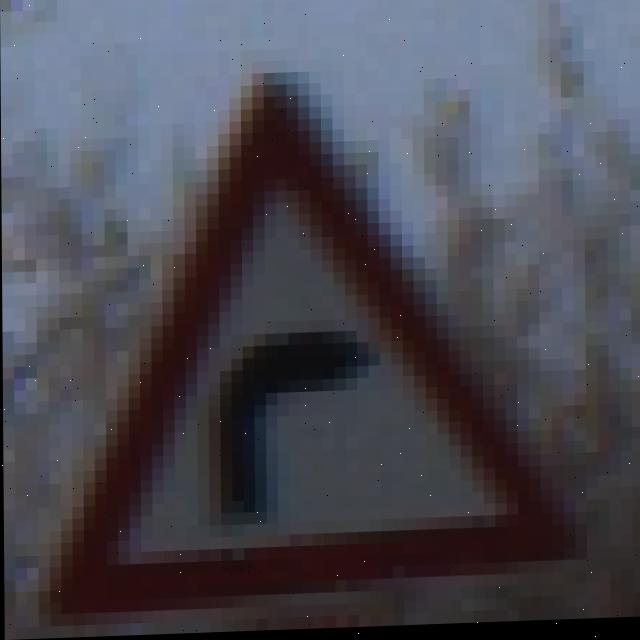right_turn: (1, 60, 621, 581)
